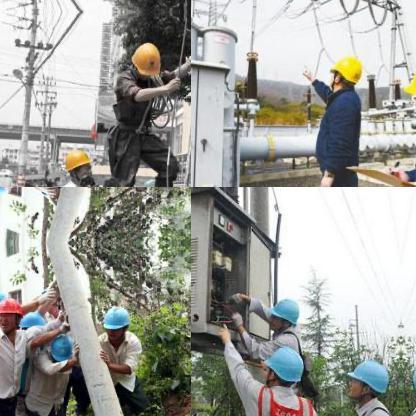Helmet: (344, 358, 388, 406), (261, 341, 303, 391), (264, 292, 302, 340), (326, 49, 364, 89), (130, 38, 162, 78), (62, 146, 94, 182), (100, 302, 130, 340), (44, 332, 76, 364), (0, 291, 21, 330), (0, 187, 22, 193)
